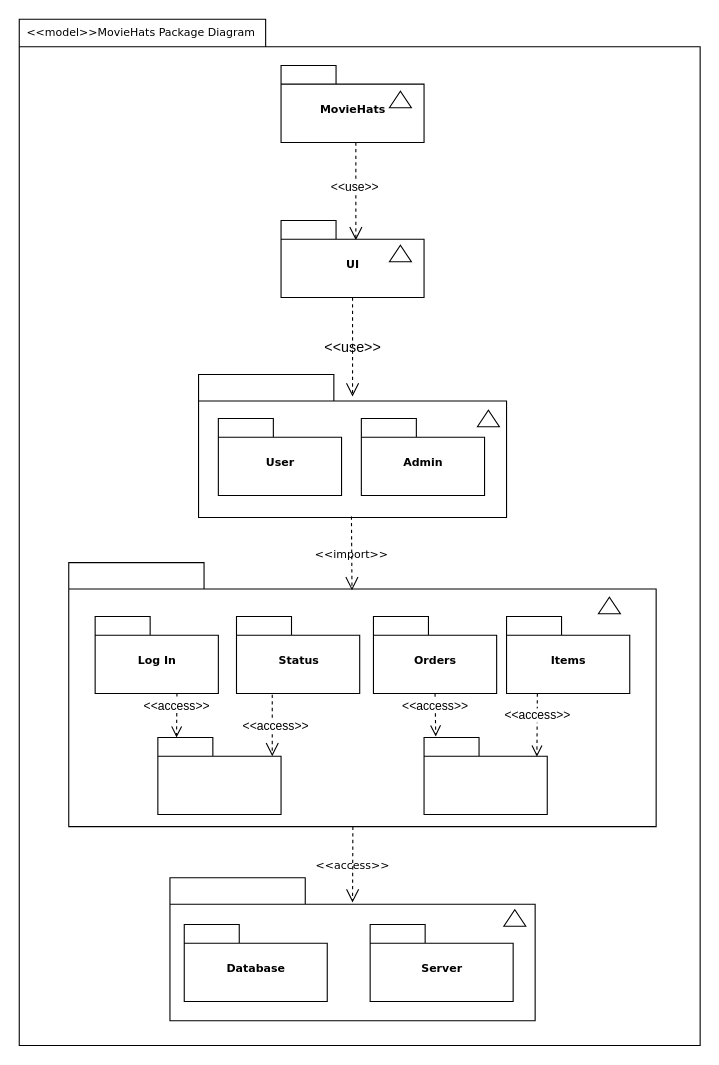
Some shapes in this 719 by 1065 pixel diagram are drawn without their labels. Each missing label, with the centre of its shape:
Account: the point at 219,775
Catalogue: the point at 485,775
